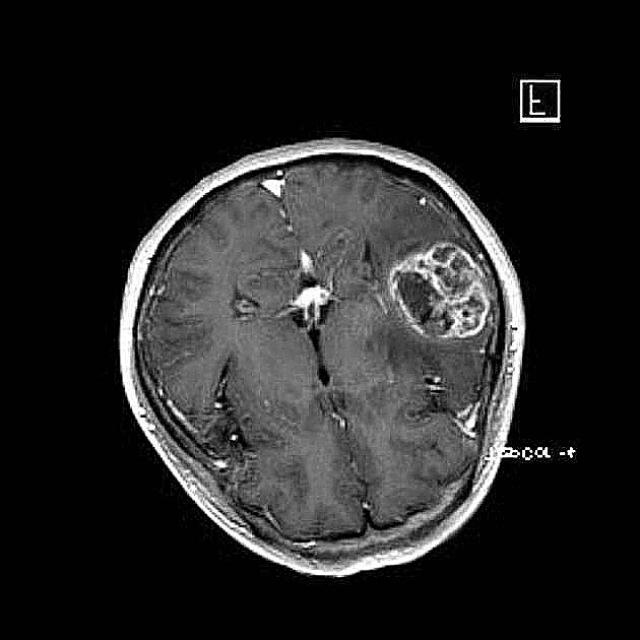Tumor-Cell: (391, 245, 497, 368)
